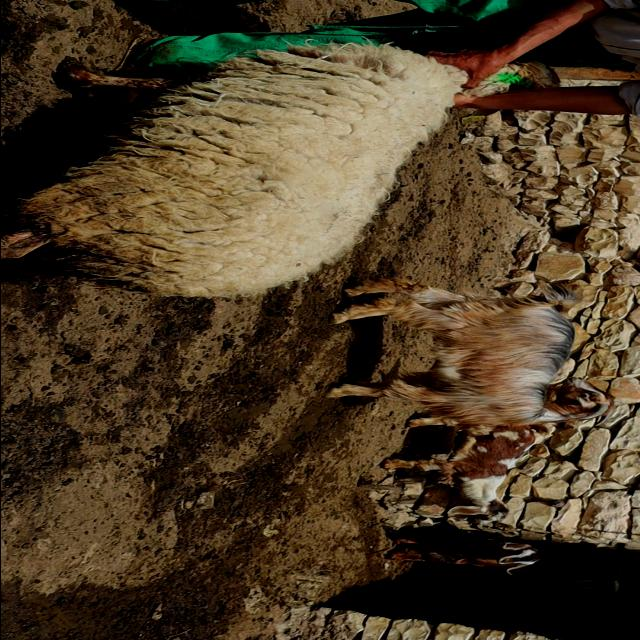Score_4: (1, 41, 558, 298)
